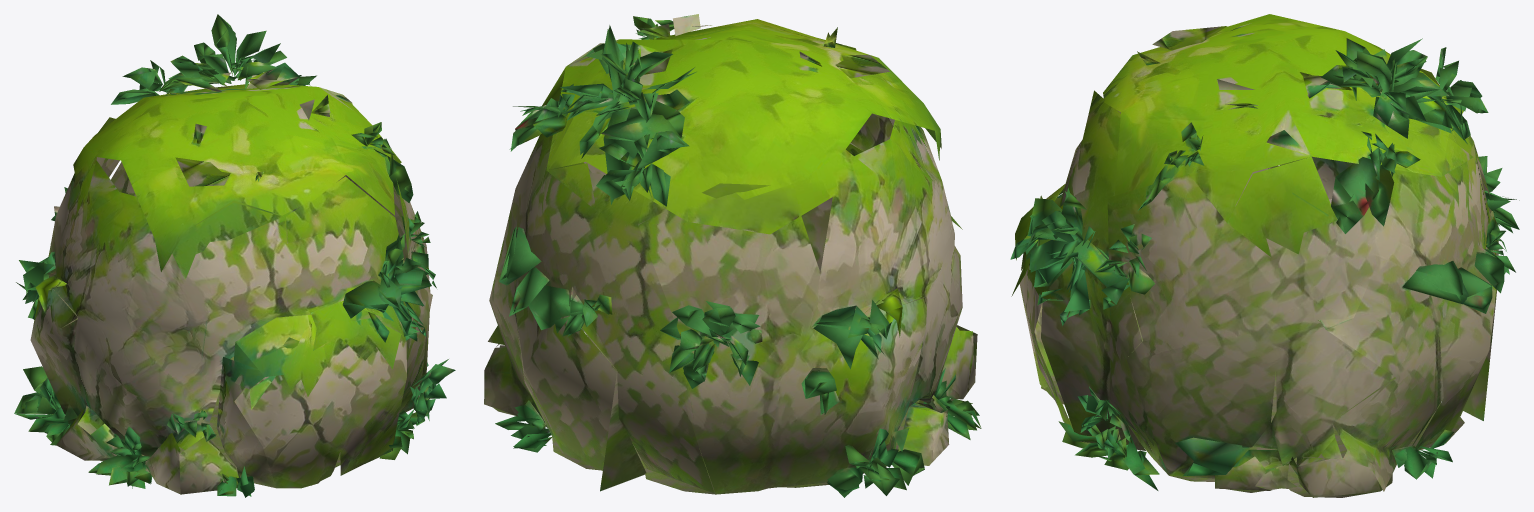
Rendered from Boulder.fbx.
The picture shows the model from 3 angles, left to right: view 1: azimuth 30°, elevation 25°; view 2: azimuth 150°, elevation 25°; view 3: azimuth 270°, elevation 25°; orthographic projection. The views are drawn at different scales.
Visible parts, largest first — view 1: Boulder; view 2: Boulder; view 3: Boulder.
Part boxes in pixels (box(x1,y1,x2,y2)): Boulder: box(14, 14, 455, 497); Boulder: box(484, 14, 981, 497); Boulder: box(1010, 14, 1519, 497).
Bounding box in the file's own units: 1.29 × 1.23 × 1.4.
1 material, 1 textured.
